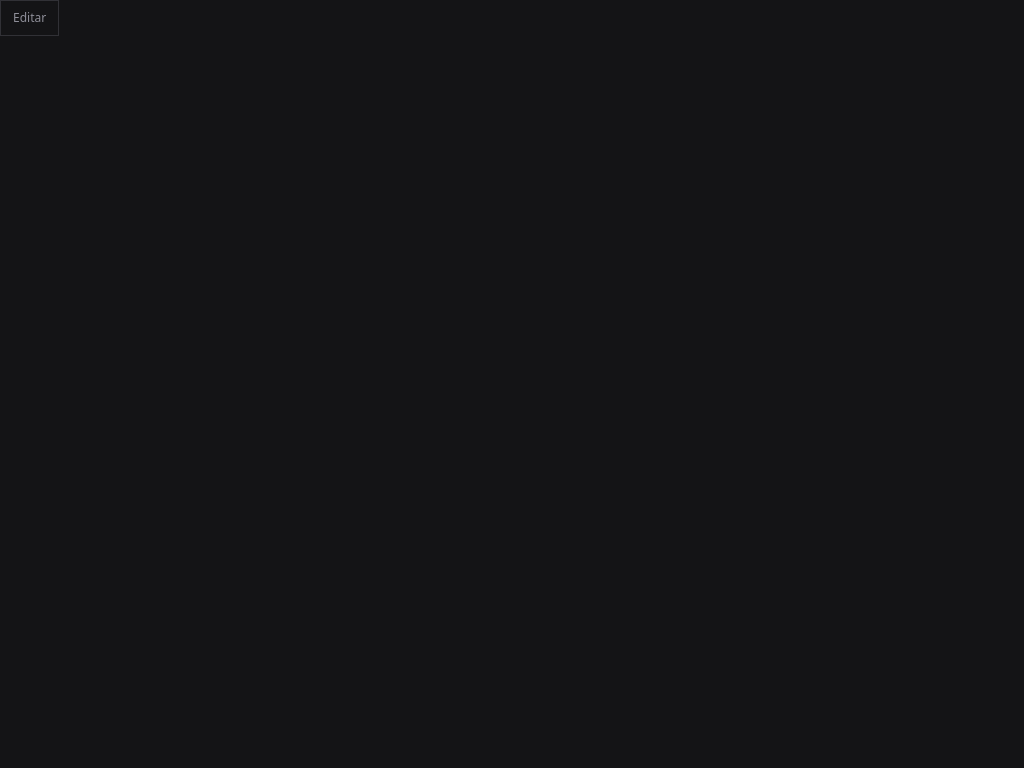
it: FormularioTarea › edita una tarea con sus valores cargados
Later steps or results of the test are not shown.
What coordinates should you click on to do the following:
click the button with aria-label "Editar «Publicar lección»"
I would click on:
 (30, 18)
Its box is [0,0,59,36].
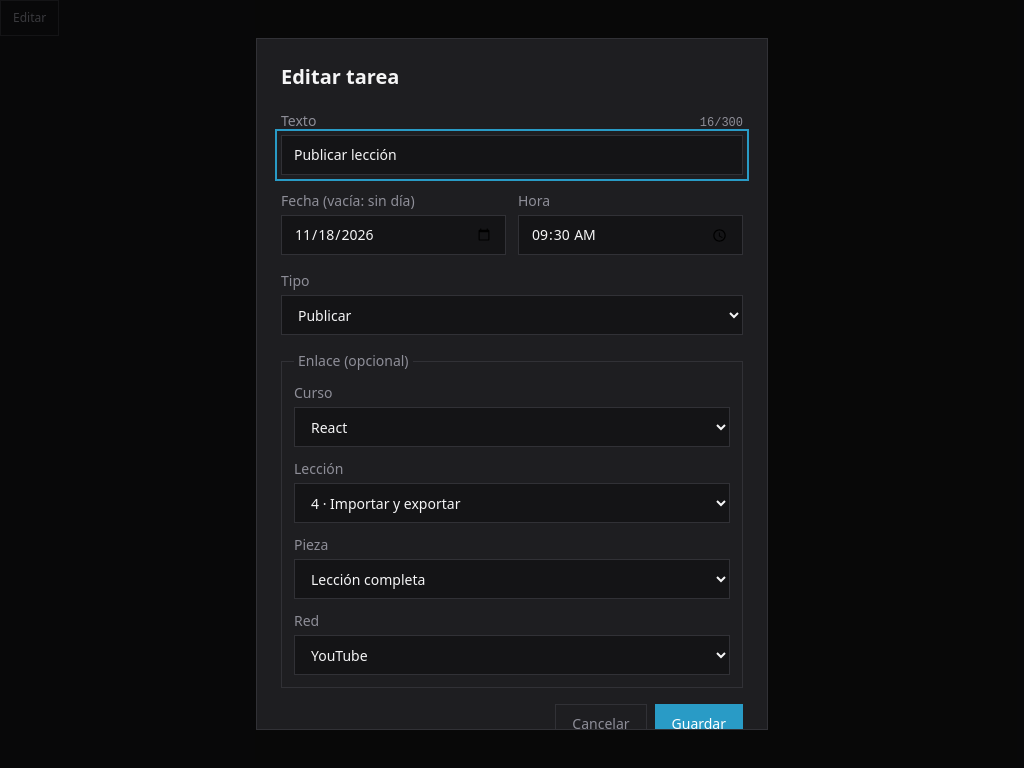
Now the dialog "Editar tarea" is shown, box [256,38,768,730]
Now the field labelled "Texto" holds "Publicar lección", box [281,135,743,175]
Now the date field labelled "Fecha (vacía: sin día)" holds "2026-11-18", box [281,215,506,255]
